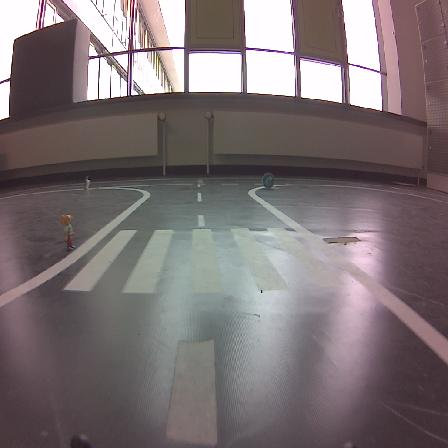CHILD: (61, 214, 74, 244)
RIGHT_TURN: (262, 173, 274, 188)
